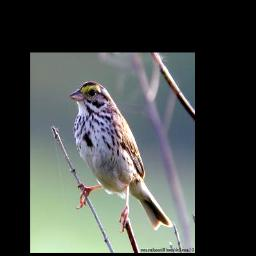Sparrow: (69, 80, 174, 233)
